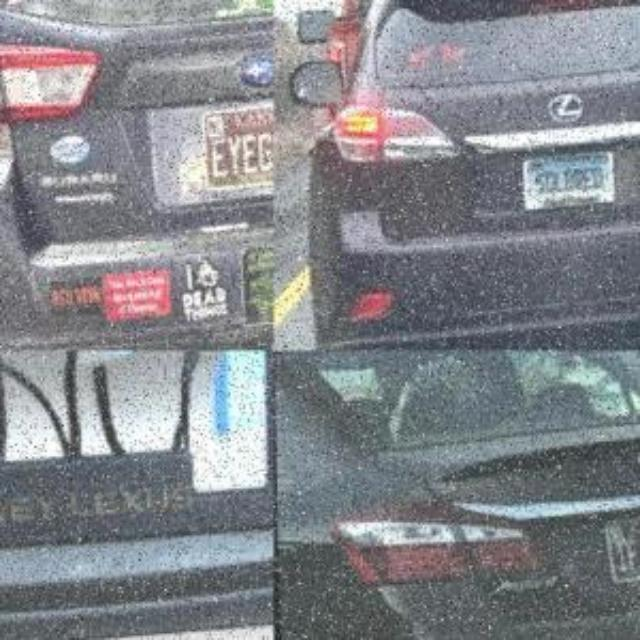License Plate: (0, 352, 268, 536), (199, 108, 274, 197), (521, 156, 614, 214), (602, 522, 640, 589)
